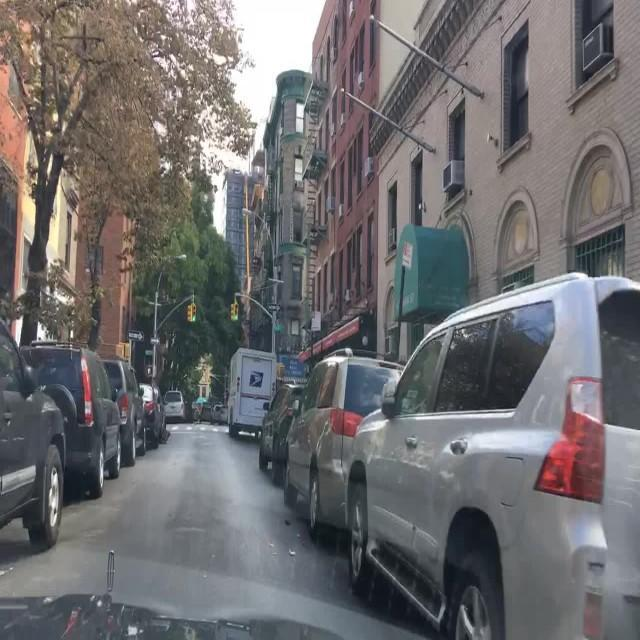normal: (269, 350, 408, 547), (224, 346, 281, 437), (137, 385, 167, 450), (164, 389, 190, 421)
